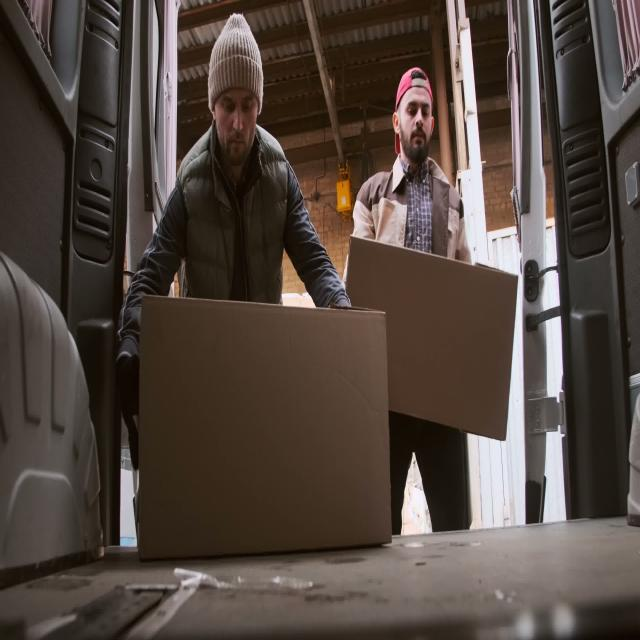counting-the-number-of-boxes: (141, 296, 392, 563), (345, 236, 519, 441)
